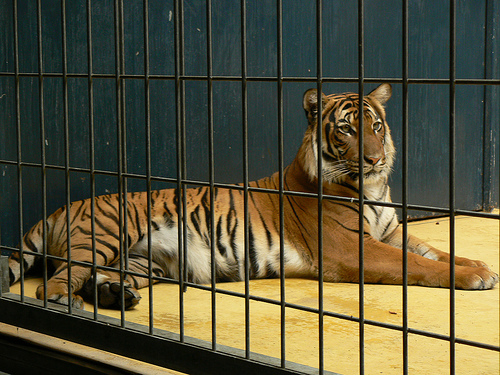Tigre: (21, 87, 495, 313)
